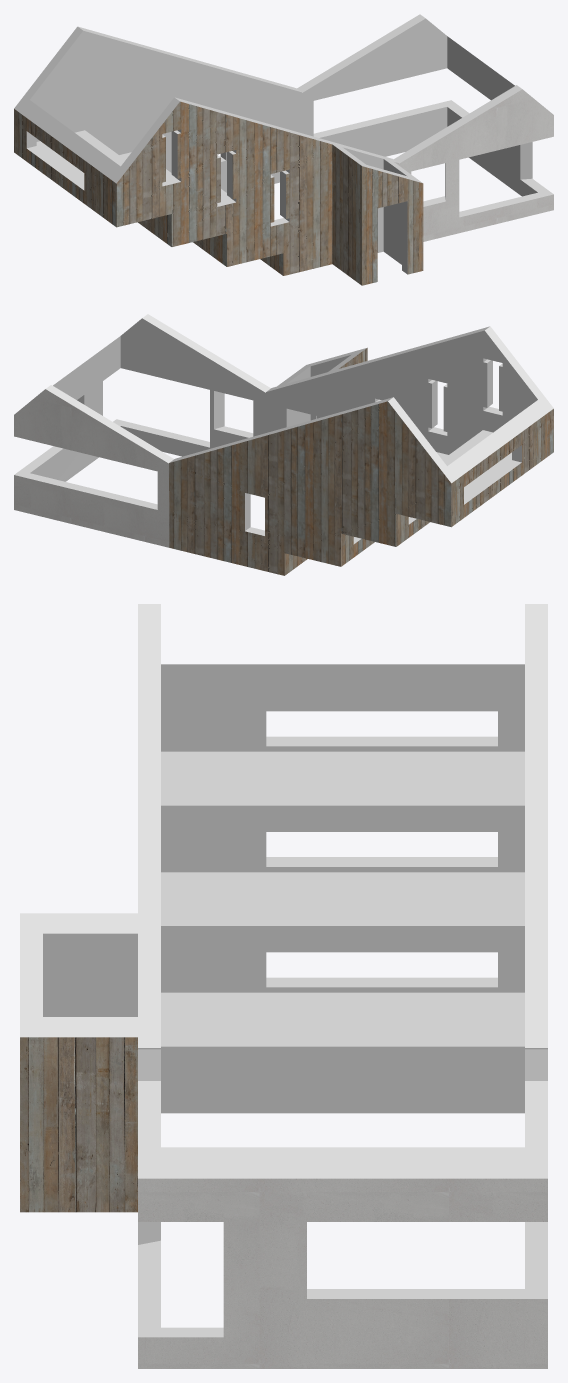
File: BWalls.gltf
3 views of the same model, one above another, from view 1: azimuth 30°, elevation 25°; view 2: azimuth 150°, elevation 25°; view 3: azimuth 270°, elevation 25° (orthographic). The views are drawn at different scales.
Visible parts, largest first — view 1: walls.001; view 2: walls.001; view 3: walls.001.
Boxes of the visible parts, x1=… form: walls.001: x1=14, y1=14, x2=553, y2=285; walls.001: x1=14, y1=314, x2=553, y2=575; walls.001: x1=20, y1=604, x2=547, y2=1368.
Size of the model in its own units: 131 by 57.11 by 68.39.
Materials: 3 (2 with a texture image).
